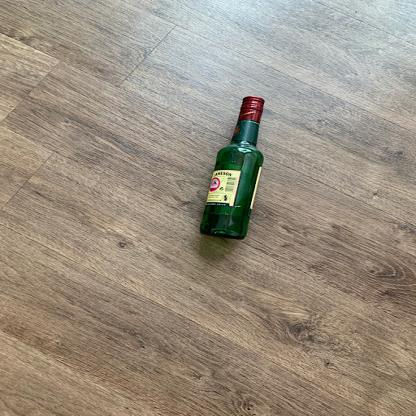trash: (196, 93, 274, 244)
